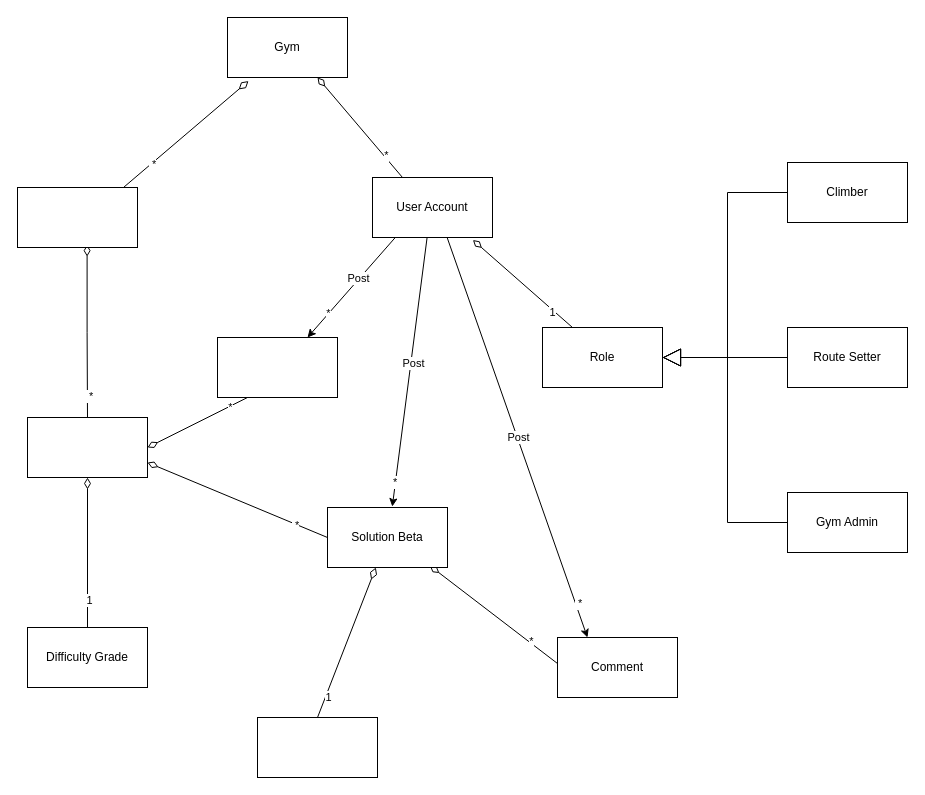
The diagram is 925 pixels wide and 795 high, and some of its shapes have lost their labels. The shapes that lost their labels are listed below. From the top down, each one's box as (x1, y1, x2, y2) in pixels, then its label:
(16, 186, 138, 248): Wall Section
(216, 336, 338, 398): Difficulty Suggestion
(26, 416, 148, 478): Climbing Problem
(256, 716, 378, 778): Media Content
